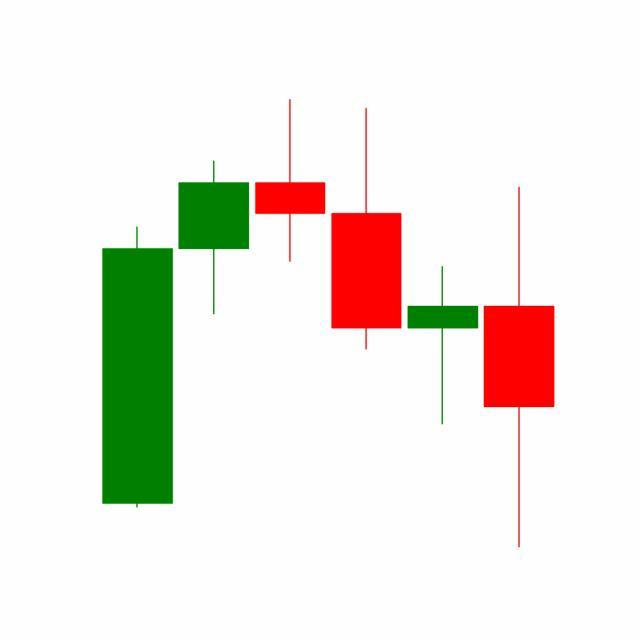Spinning Top: (404, 265, 482, 427)
